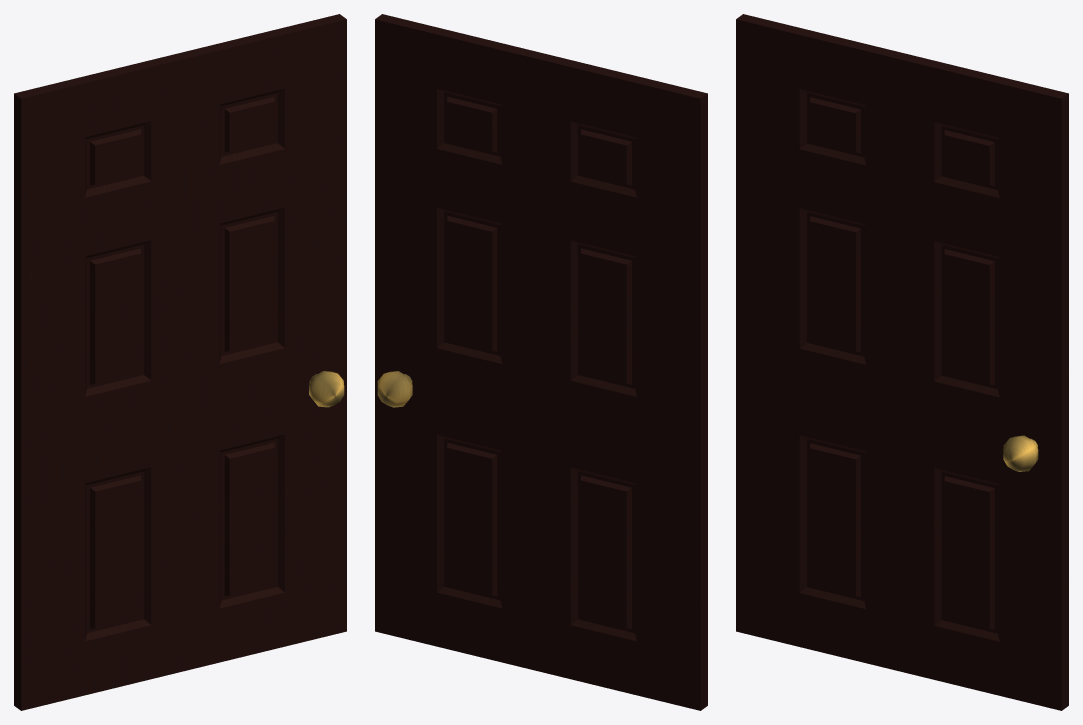
The model's file is Door_C.FBX.
3 renders of one model, left to right at view 1: azimuth 30°, elevation 25°; view 2: azimuth 150°, elevation 25°; view 3: azimuth 330°, elevation 25°, orthographic.
Parts seen in each view (by area): view 1: Door_A; view 2: Door_A; view 3: Door_A.
Part boxes in pixels (left/top/right/bottom): Door_A: left=14, top=14, right=346, bottom=710; Door_A: left=375, top=14, right=707, bottom=710; Door_A: left=736, top=14, right=1068, bottom=710.
Bounding box in the file's own units: 207 × 372 × 50.77.
